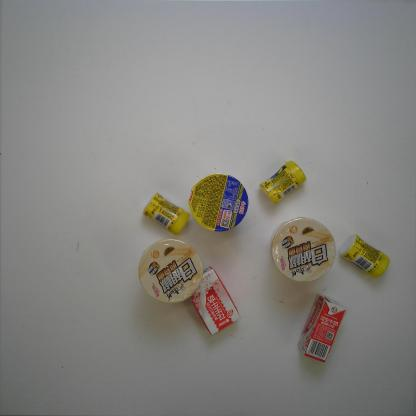Gum: (257, 159, 307, 208), (339, 234, 391, 280), (140, 191, 192, 236)
Instant Noodles: (270, 216, 340, 284), (136, 239, 206, 305), (186, 173, 251, 235)
Milk: (183, 265, 241, 336), (296, 294, 348, 364)
